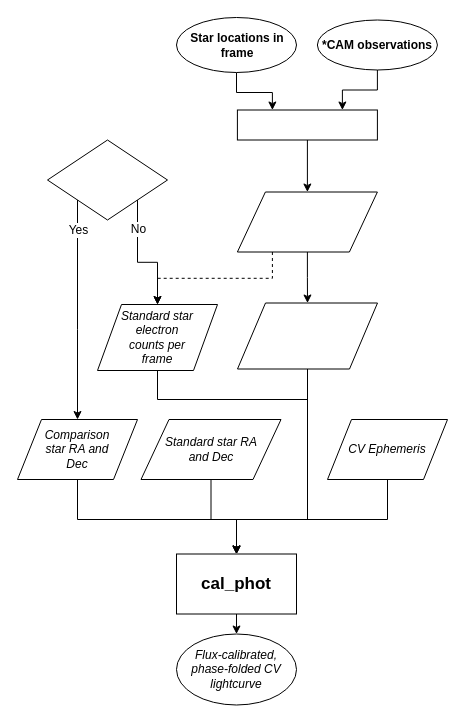
Image size: 465x723. Some labels were removed from this diagram. The centre of each missing label's shape, as x and y in pixels:
"Aperture electron counts per frame" goes at pixel 307 335.
"Electron counts per aperture, per frame" goes at pixel 306 221.
"HiPERCAM Pipeline" goes at pixel 306 124.
"Is the target in SDSS?" goes at pixel 107 179.
